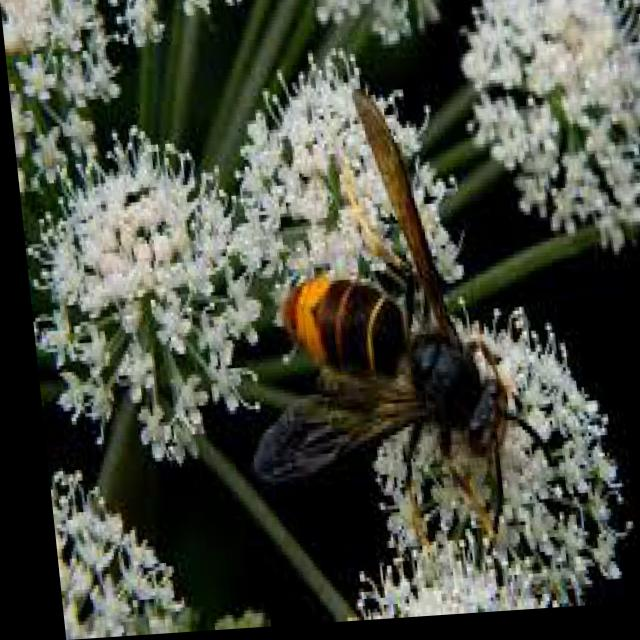Vespa Velutina: (199, 83, 552, 557)
